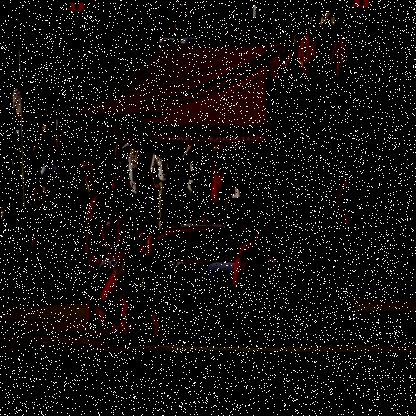Car: (87, 214, 352, 346)
